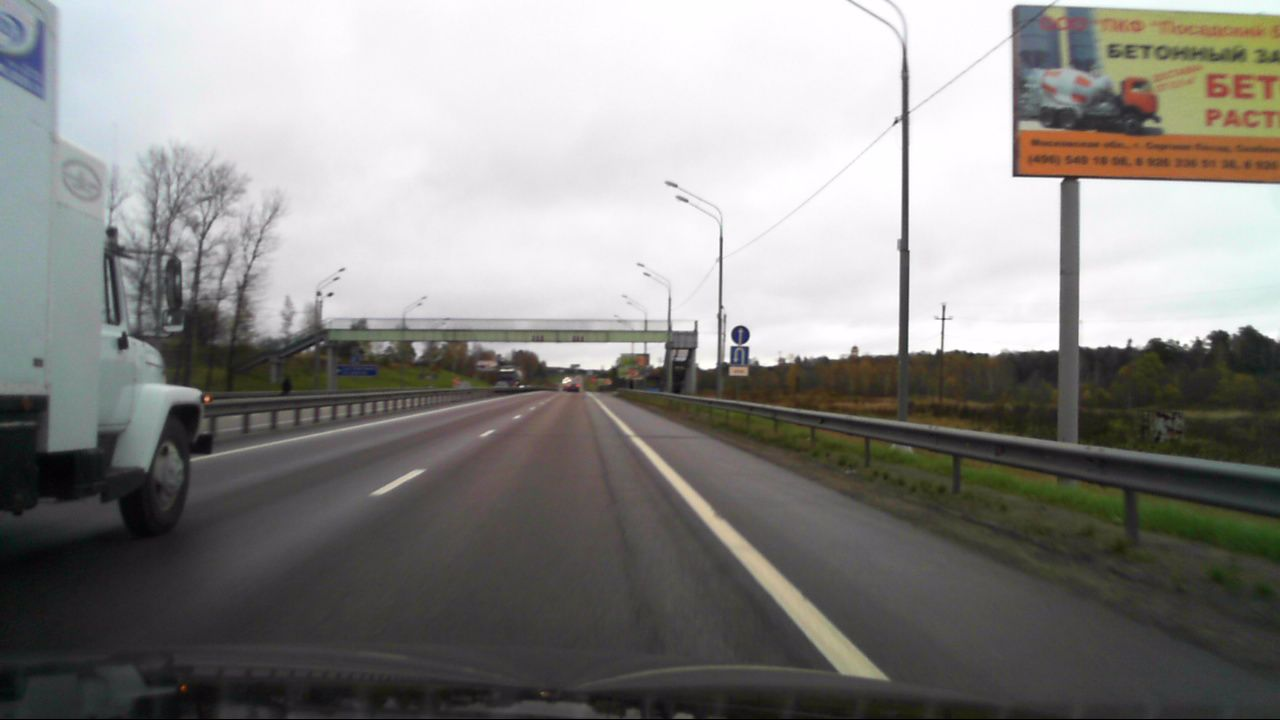U-turn: (731, 346, 748, 365)
